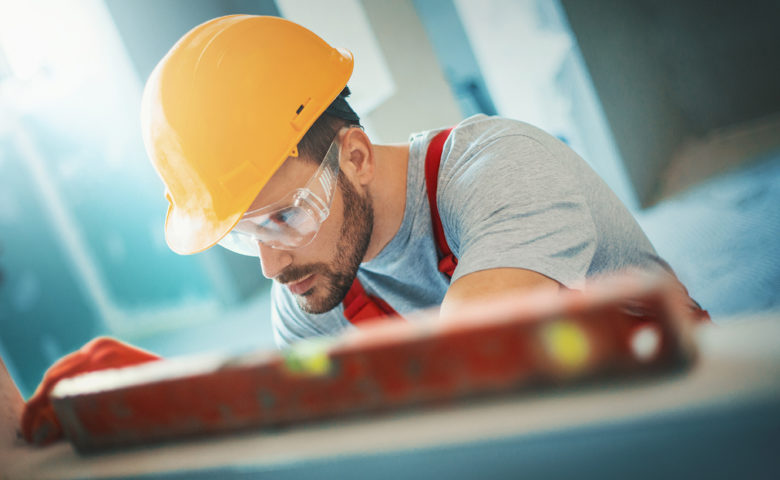epi: (138, 11, 706, 361)
